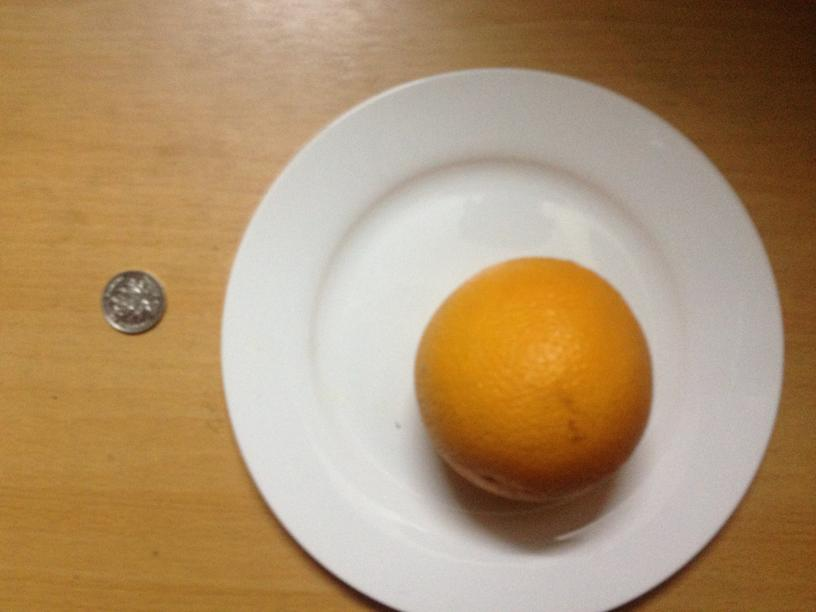coin: (99, 271, 165, 335)
orange: (411, 252, 653, 506)
